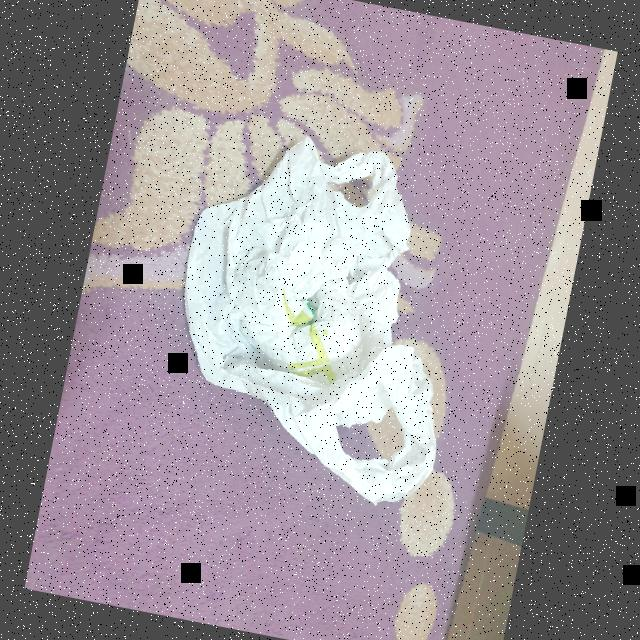plastic_bag: (138, 98, 502, 522)
